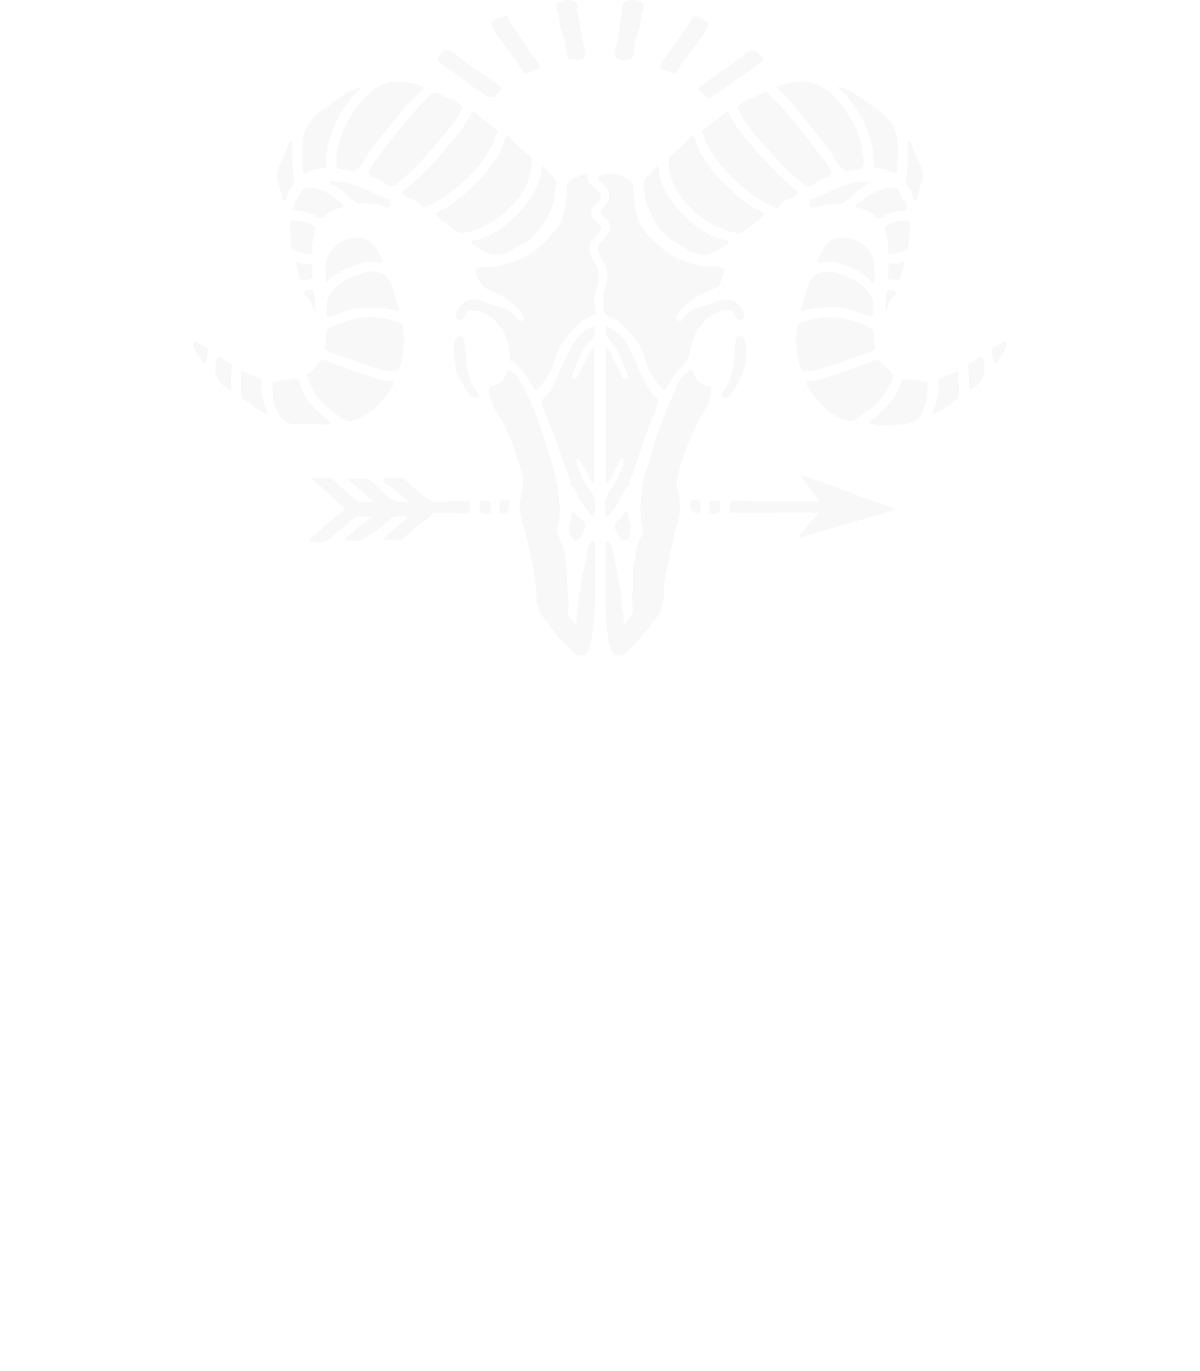design: (162, 1, 1053, 674)
